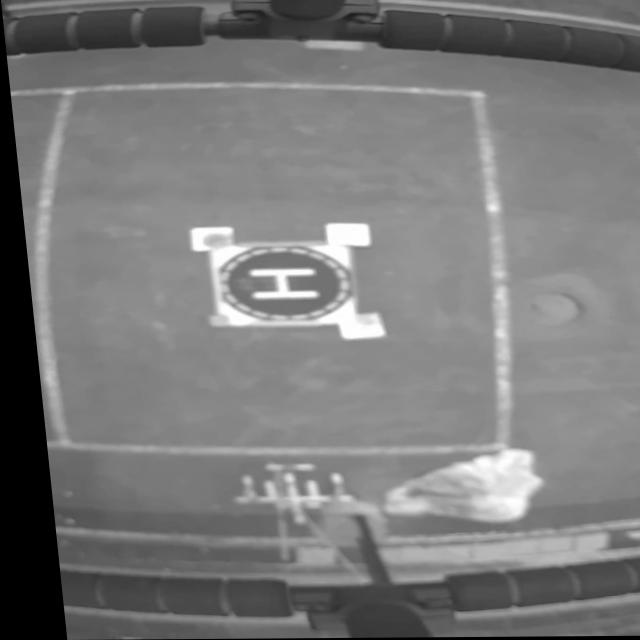Helipad: (239, 269, 313, 301)
